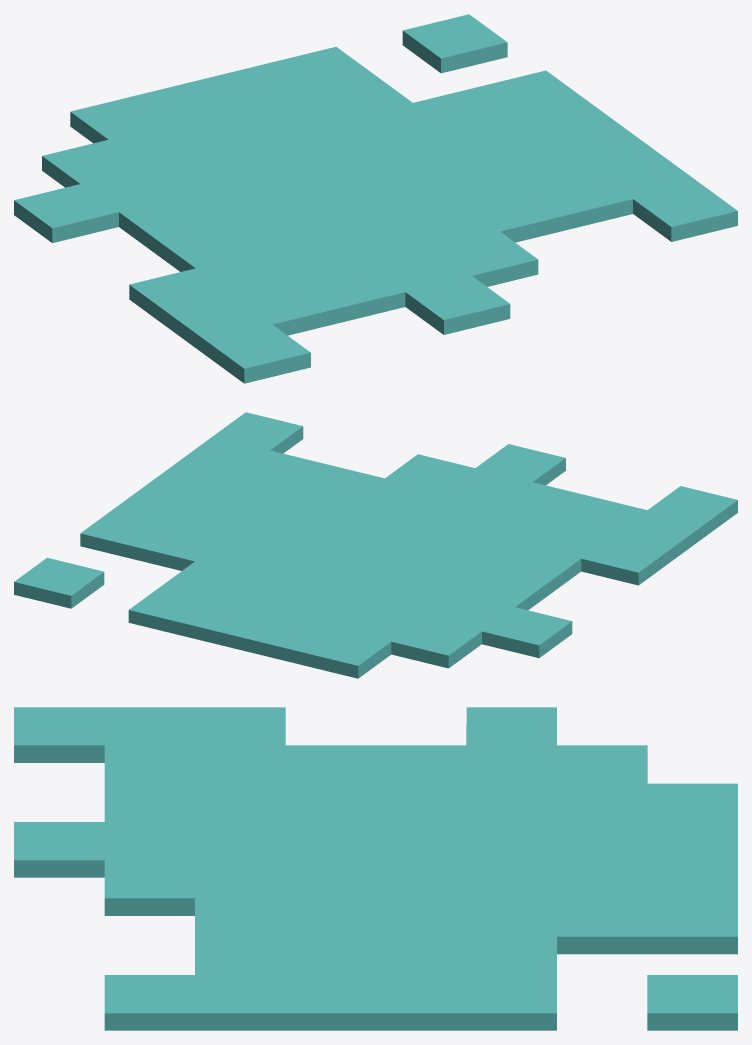
Rendered from BaseWater.fbx.
3 views of the same model, one above another, from view 1: azimuth 30°, elevation 25°; view 2: azimuth 150°, elevation 25°; view 3: azimuth 270°, elevation 25° (orthographic). The views are drawn at different scales.
Parts seen in each view (by area): view 1: Plane.001; view 2: Plane.001; view 3: Plane.001.
Boxes of the visible parts, left/top/right/bottom form: Plane.001: left=14, top=14, right=737, bottom=383; Plane.001: left=14, top=412, right=737, bottom=678; Plane.001: left=14, top=707, right=737, bottom=1030.
Size of the model in its own units: 4151 by 111 by 4151.
